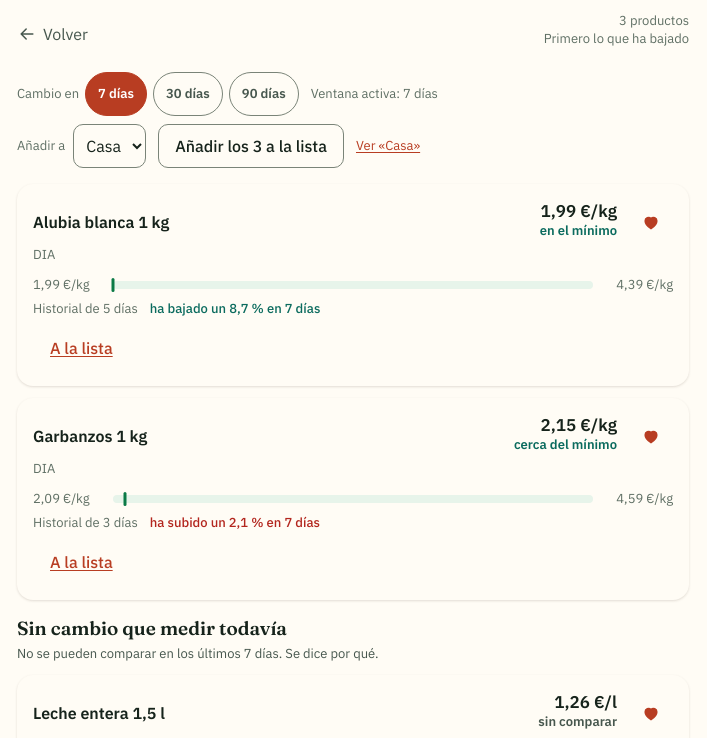
Favoritos · la tarjeta del artboard › *** el corazón está puesto, quita, y lo dice ***
Click the button named "Quitar de favoritos" next to "en el mínimo" at [651, 222], box [629,200,673,244]
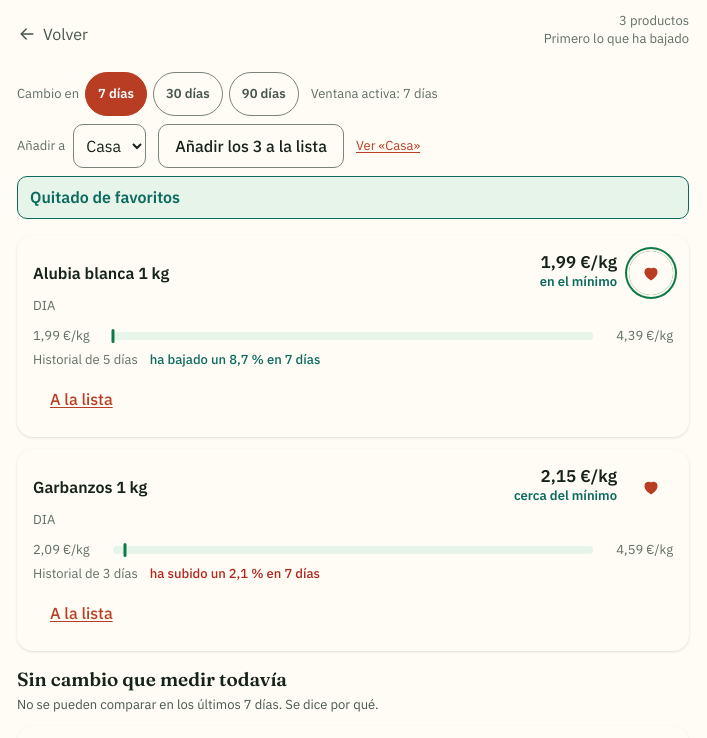
Now the text "Quitado de favoritos" is shown, box [30,187,180,207]
